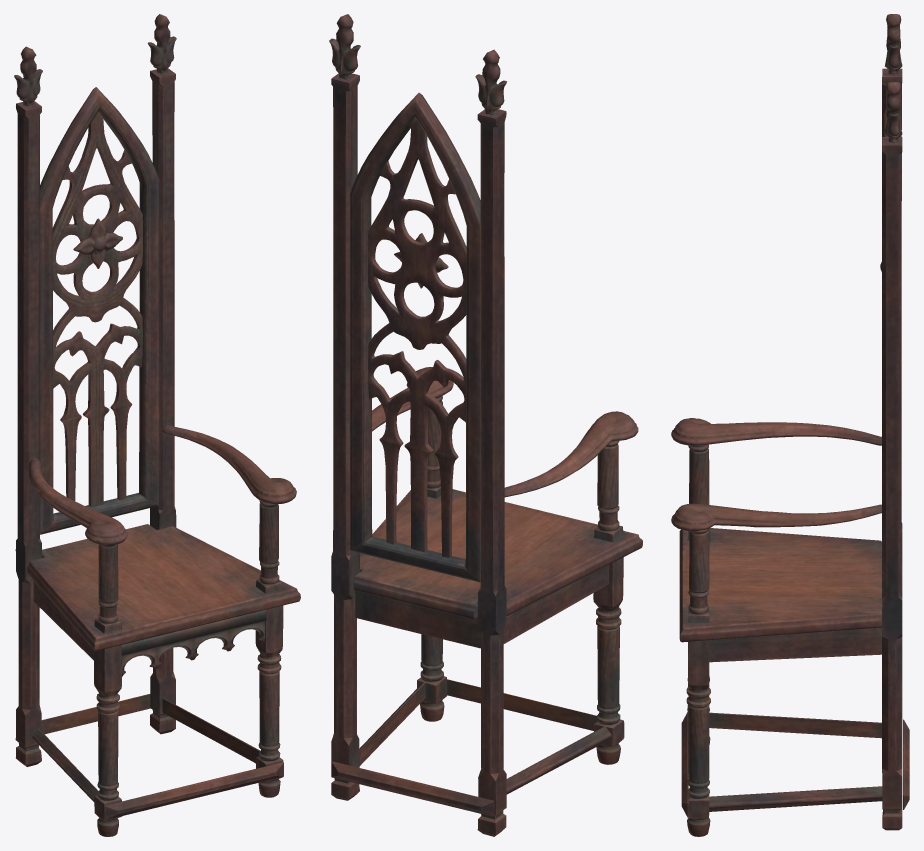
The model's file is WoodenChair_01.glb.
3 views of the same model, side by side, from view 1: azimuth 30°, elevation 25°; view 2: azimuth 150°, elevation 25°; view 3: azimuth 270°, elevation 25° (orthographic). The views are drawn at different scales.
Parts seen in each view (by area): view 1: WoodenChair_01; view 2: WoodenChair_01; view 3: WoodenChair_01.
Boxes of the visible parts, left/top/right/bottom form: WoodenChair_01: left=14, top=14, right=300, bottom=836; WoodenChair_01: left=329, top=14, right=642, bottom=836; WoodenChair_01: left=671, top=14, right=909, bottom=836.
Bounding box in the file's own units: 0.6886 × 2.27 × 0.6586.
Materials: 1 (1 with a texture image).
